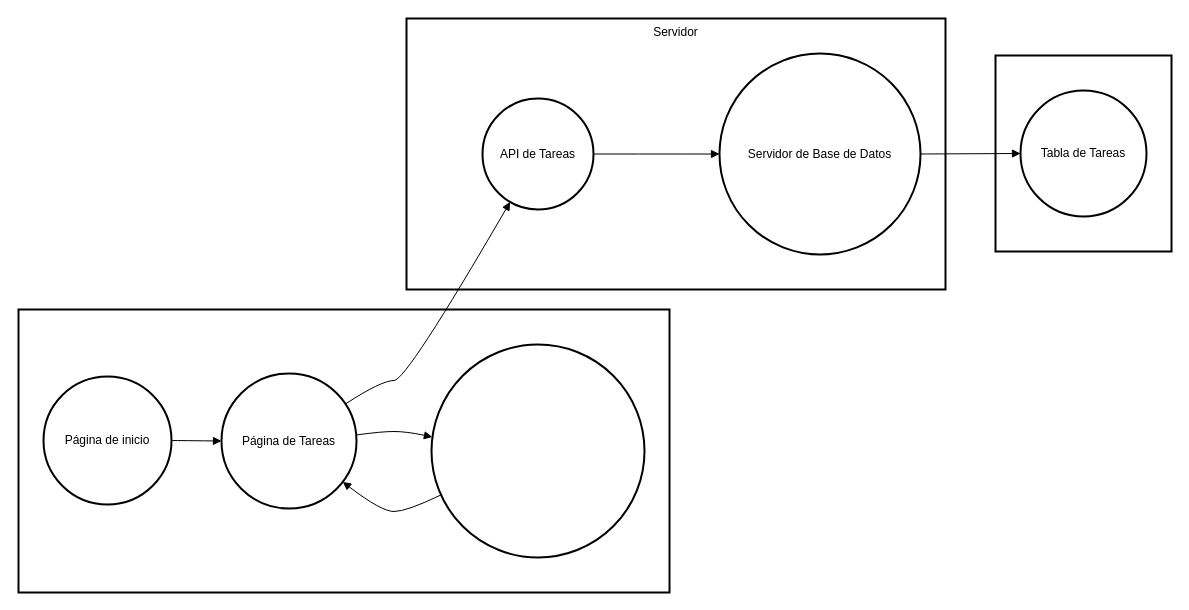
Some shapes in this 1189 by 610 pixel diagram are drawn without their labels. The box of each missing label's shape, as (x1, y1, x2, y2) in pixels:
Base de Datos: (994, 54, 1172, 252)
Cliente: (17, 308, 670, 593)
Página de Detalles de Tarea: (430, 343, 645, 558)
